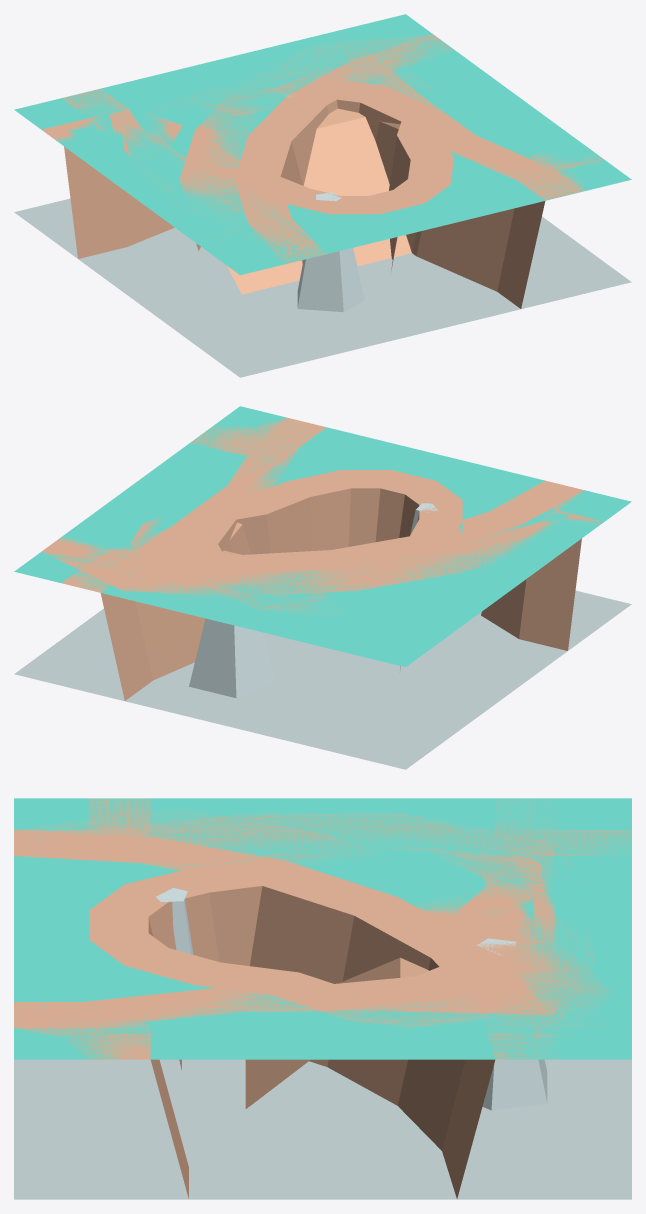
File: river_deep.glb
The picture shows the model from 3 angles, top to bottom: view 1: azimuth 30°, elevation 25°; view 2: azimuth 150°, elevation 25°; view 3: azimuth 270°, elevation 25°; orthographic projection. The views are drawn at different scales.
Parts seen in each view (by area): view 1: ground_riverBend, ground_riverEnd, ground_riverTile, ground_riverEndClosed, ground_riverCross, ground_riverBendBank, ground_riverRocks, ground_riverSide, ground_riverCornerSmall, ground_riverOpen, ground_riverCorner, ground_riverSplit; view 2: ground_riverBend, ground_riverBendBank, ground_riverTile, ground_riverCornerSmall, ground_riverCross, ground_riverRocks, ground_riverEnd, ground_riverEndClosed, ground_riverSide, ground_riverSplit, ground_riverStraight, ground_riverOpen; view 3: ground_riverBend, ground_riverTile, ground_riverEnd, ground_riverBendBank, ground_riverSide, ground_riverCornerSmall, ground_riverEndClosed, ground_riverRocks, ground_riverCross, ground_riverCorner, ground_riverSideOpen, ground_riverOpen (+1 smaller).
Part boxes in pixels (left/top/right/bottom): ground_riverBend: left=15, top=14, right=631, bottom=349; ground_riverEnd: left=18, top=17, right=628, bottom=349; ground_riverTile: left=28, top=15, right=629, bottom=273; ground_riverEndClosed: left=19, top=14, right=581, bottom=347; ground_riverCross: left=15, top=15, right=630, bottom=347; ground_riverBendBank: left=15, top=14, right=429, bottom=274; ground_riverRocks: left=16, top=19, right=574, bottom=349; ground_riverSide: left=17, top=15, right=629, bottom=376; ground_riverCornerSmall: left=14, top=198, right=630, bottom=350; ground_riverOpen: left=176, top=317, right=351, bottom=377; ground_riverCorner: left=521, top=235, right=631, bottom=308; ground_riverSplit: left=129, top=231, right=513, bottom=343; ground_riverBend: left=14, top=406, right=630, bottom=666; ground_riverBendBank: left=15, top=481, right=630, bottom=667; ground_riverTile: left=60, top=407, right=626, bottom=684; ground_riverCornerSmall: left=14, top=481, right=629, bottom=769; ground_riverCross: left=14, top=406, right=567, bottom=740; ground_riverRocks: left=27, top=424, right=552, bottom=738; ground_riverEnd: left=21, top=406, right=627, bottom=666; ground_riverEndClosed: left=75, top=419, right=581, bottom=688; ground_riverSide: left=21, top=538, right=631, bottom=721; ground_riverSplit: left=268, top=615, right=517, bottom=710; ground_riverStraight: left=128, top=637, right=361, bottom=737; ground_riverOpen: left=17, top=590, right=631, bottom=673; ground_riverBend: left=14, top=798, right=631, bottom=1199; ground_riverTile: left=14, top=798, right=631, bottom=1126; ground_riverEnd: left=14, top=798, right=631, bottom=1125; ground_riverBendBank: left=14, top=798, right=631, bottom=1059; ground_riverSide: left=14, top=798, right=631, bottom=1199; ground_riverCornerSmall: left=14, top=798, right=631, bottom=1199; ground_riverEndClosed: left=14, top=799, right=631, bottom=1124; ground_riverRocks: left=15, top=801, right=631, bottom=1125; ground_riverCross: left=14, top=798, right=631, bottom=1199; ground_riverCorner: left=14, top=1126, right=455, bottom=1199; ground_riverSideOpen: left=15, top=830, right=630, bottom=1199; ground_riverOpen: left=416, top=1126, right=630, bottom=1198.
Size of the model in its own units: 1 by 0.25 by 1.
